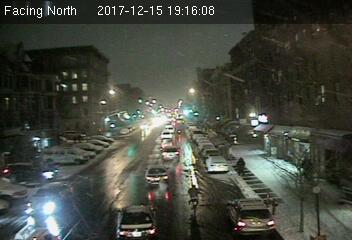bicycle: (186, 181, 203, 223)
car: (226, 196, 277, 235), (113, 202, 159, 240), (23, 182, 72, 214), (144, 166, 169, 184), (205, 156, 228, 172), (161, 146, 181, 159)
pedestrian: (237, 155, 246, 180)
